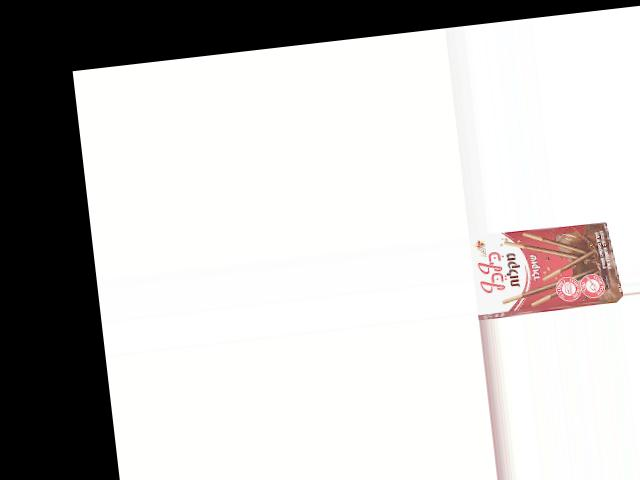chocolate: (469, 219, 614, 319)
